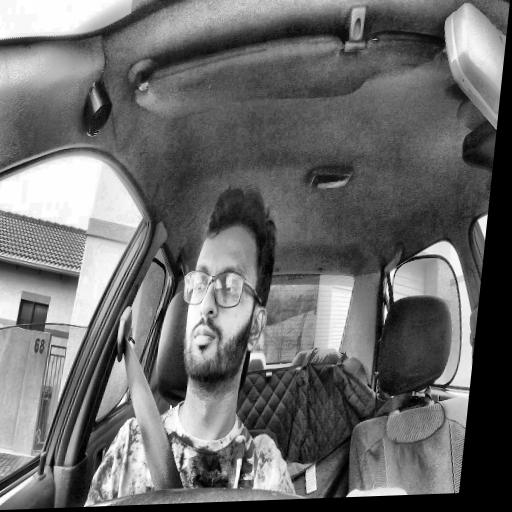awake: (172, 186, 282, 388)
